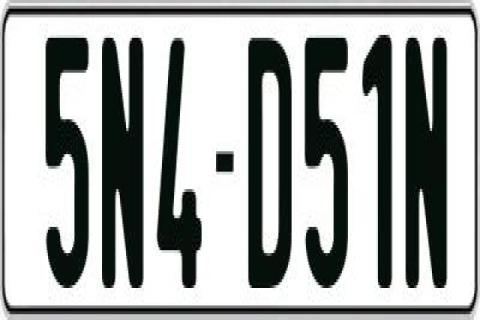0: (154, 29, 204, 279), (302, 29, 346, 294), (43, 29, 88, 279), (360, 26, 394, 294)
D: (246, 32, 292, 288)
N: (101, 38, 148, 302), (404, 38, 446, 297)
